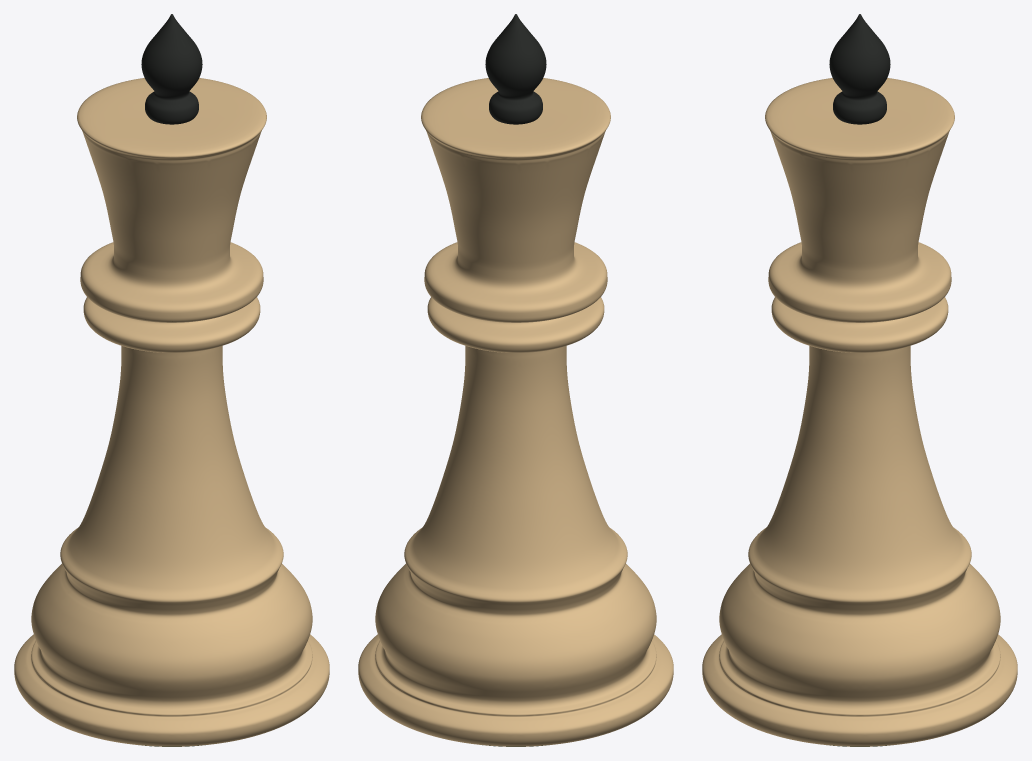
Rendered from king.glb.
3 views of the same model, side by side, from view 1: azimuth 30°, elevation 25°; view 2: azimuth 150°, elevation 25°; view 3: azimuth 270°, elevation 25° (orthographic).
Visible parts, largest first — view 1: Piece_King; view 2: Piece_King; view 3: Piece_King.
Part boxes in pixels (bbox=[...]): Piece_King: bbox=[14, 14, 329, 746]; Piece_King: bbox=[358, 14, 673, 746]; Piece_King: bbox=[702, 14, 1017, 746].
Size of the model in its own units: 0.0414 by 0.098 by 0.0414.
